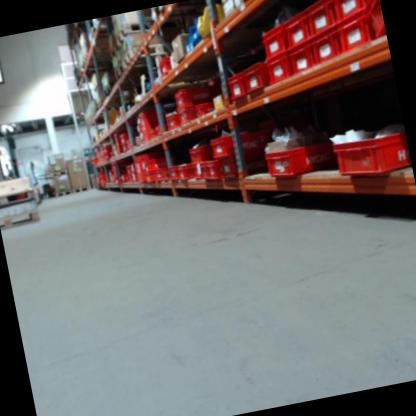pallet: (119, 41, 168, 69), (115, 19, 158, 49), (0, 209, 42, 231), (0, 187, 34, 207), (112, 63, 126, 81), (108, 40, 121, 58), (49, 168, 69, 179), (71, 183, 90, 194), (53, 188, 73, 198), (102, 83, 115, 97)
pallet_truck: (25, 157, 46, 201)
small_load_carrier: (329, 122, 411, 182), (263, 132, 335, 182), (209, 124, 274, 160), (333, 11, 373, 54), (309, 29, 348, 71), (305, 0, 341, 40), (286, 42, 319, 83), (133, 150, 166, 186), (280, 9, 312, 45), (214, 153, 255, 181), (240, 58, 269, 95), (264, 54, 294, 88), (259, 25, 289, 57), (332, 0, 377, 21), (364, 0, 385, 41), (224, 72, 247, 102), (185, 142, 214, 165), (152, 54, 175, 83), (173, 103, 199, 127), (171, 83, 194, 106), (134, 124, 160, 143), (204, 159, 224, 181), (191, 162, 211, 183), (152, 164, 170, 187), (135, 109, 161, 124), (142, 156, 166, 172), (162, 112, 179, 134), (177, 161, 193, 182), (194, 100, 211, 118), (143, 170, 158, 184), (118, 130, 131, 146), (168, 164, 180, 181), (127, 162, 138, 175), (131, 173, 140, 185), (121, 144, 131, 153)
